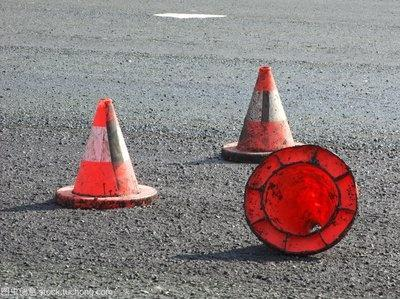cone_barrel: (247, 141, 349, 253), (57, 96, 149, 203), (224, 62, 298, 157)
